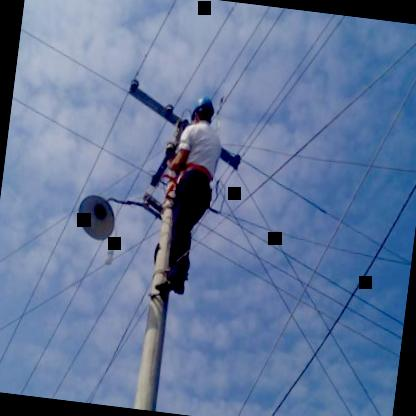helmet: (185, 91, 221, 135)
